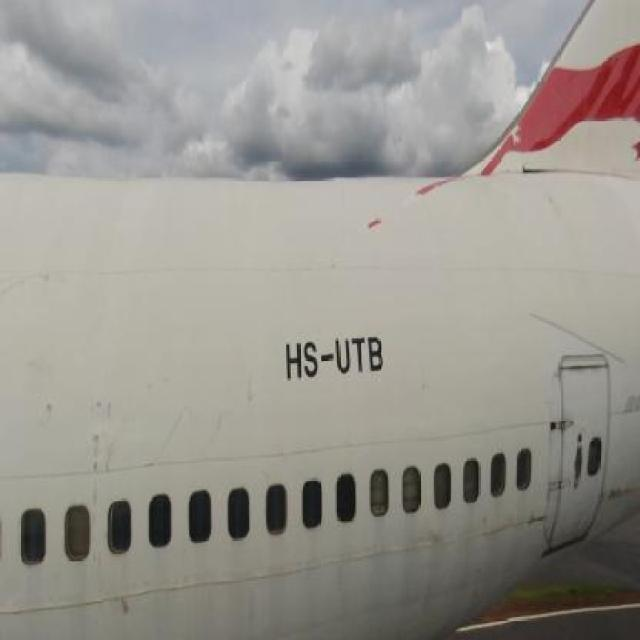Rust: (604, 472, 634, 513), (556, 359, 610, 376)
Scartch: (86, 403, 119, 502), (514, 516, 546, 542), (116, 588, 136, 621)
